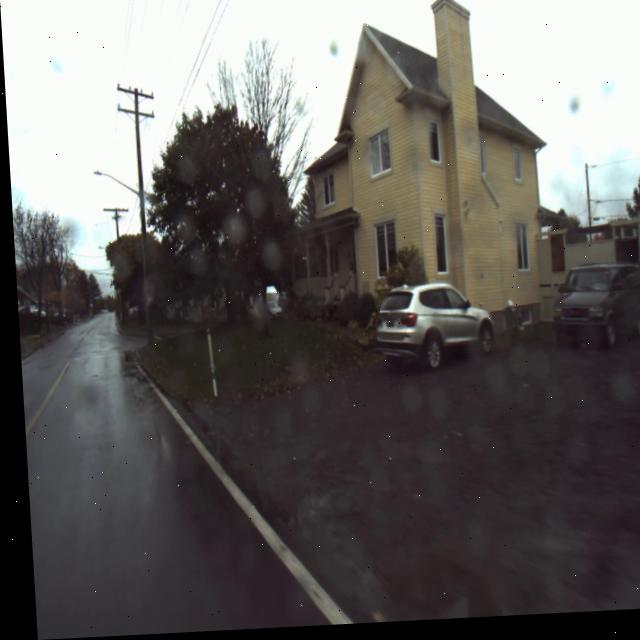car: (358, 273, 495, 379)
